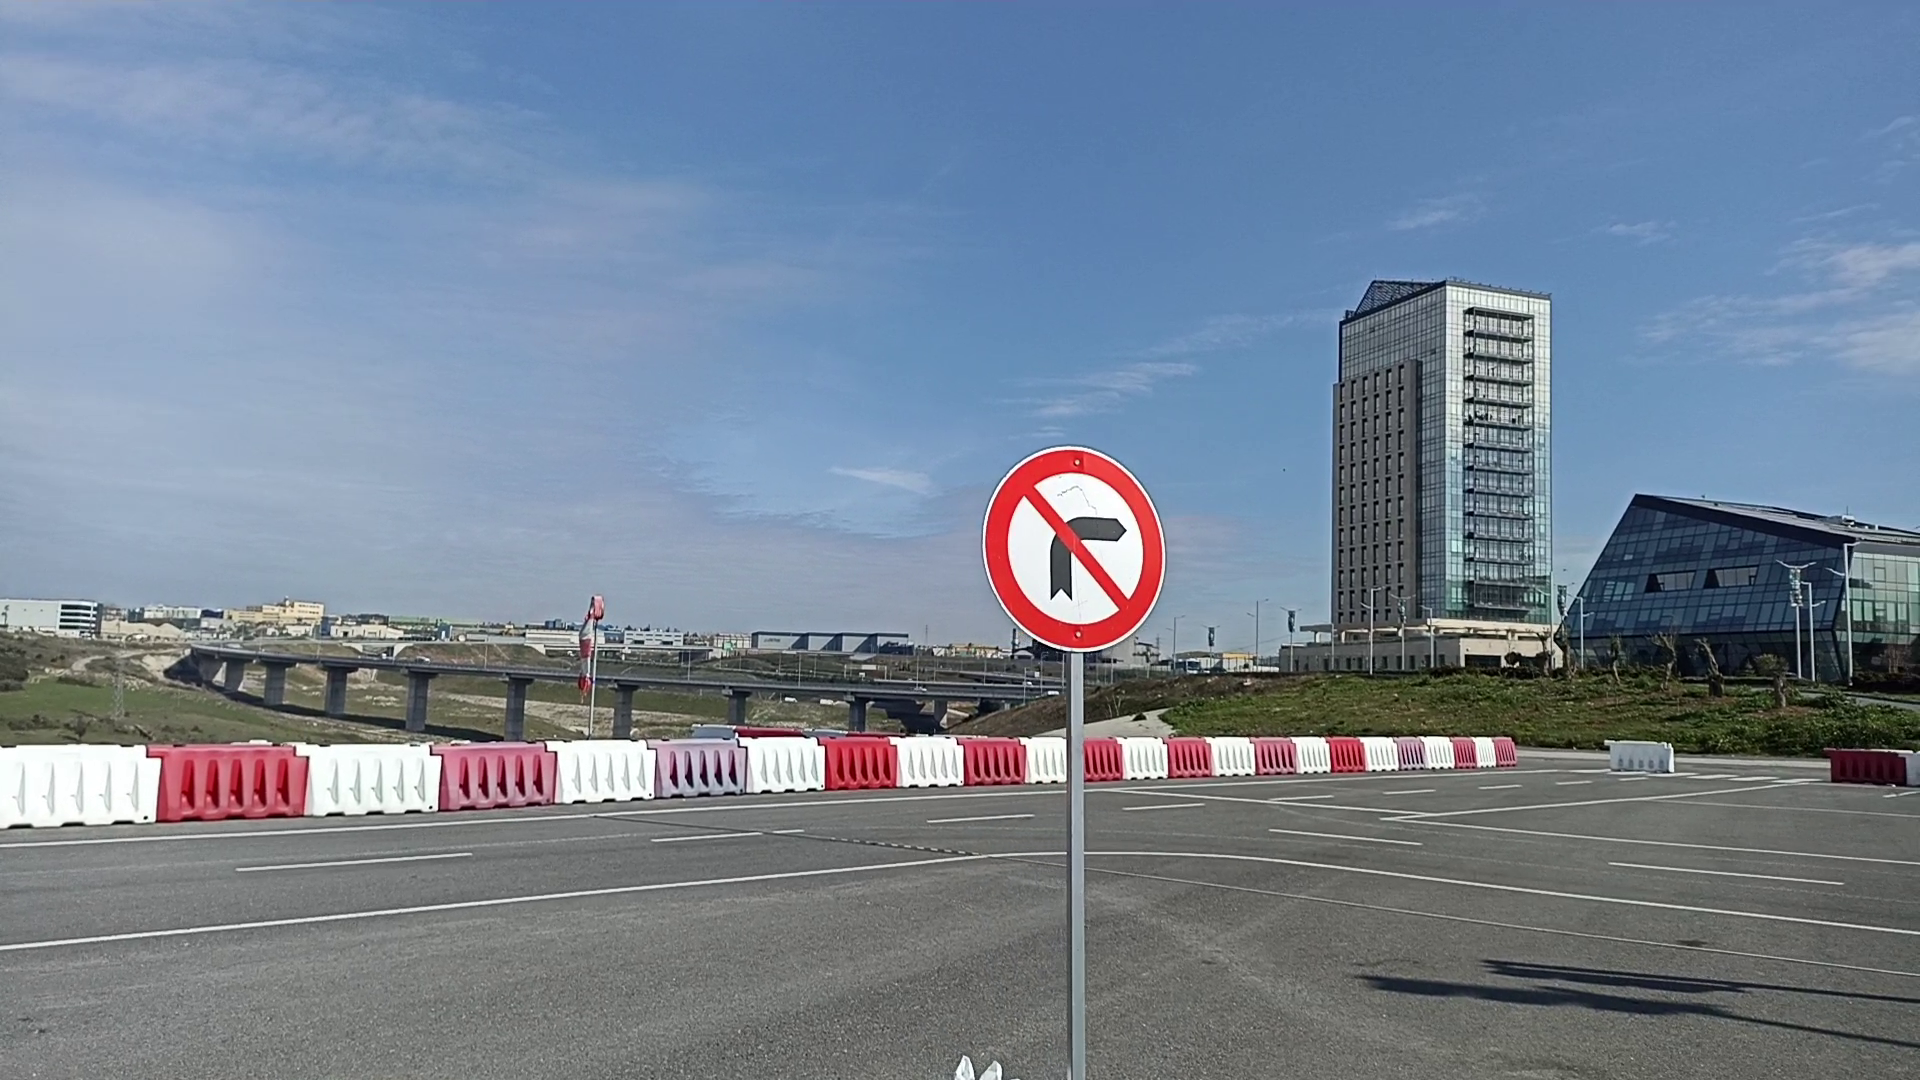noleftturn: (978, 444, 1168, 658)
